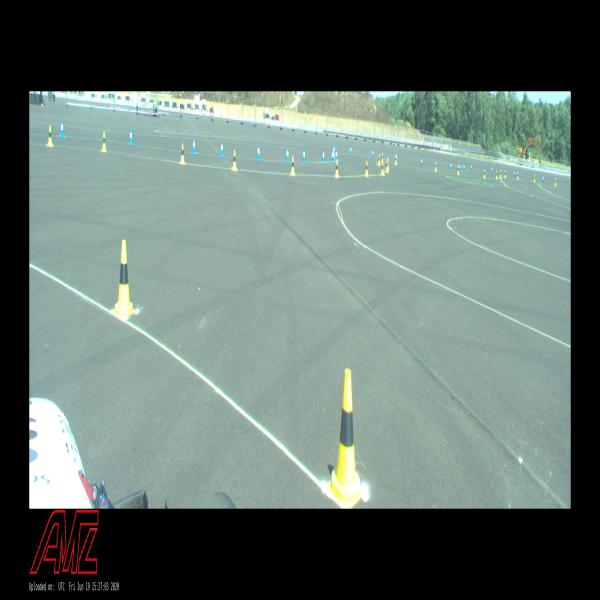blue_cone: (192, 136, 196, 154), (220, 140, 224, 157), (129, 128, 133, 145), (302, 147, 306, 163), (256, 144, 260, 160), (61, 120, 64, 137), (286, 146, 289, 162), (331, 149, 334, 163), (322, 149, 325, 163), (335, 149, 338, 161), (334, 144, 336, 159), (420, 158, 423, 166), (450, 160, 452, 170), (350, 144, 352, 154), (372, 149, 374, 159), (459, 162, 461, 171), (514, 170, 516, 178), (542, 174, 544, 182), (491, 166, 493, 173), (463, 163, 465, 170), (396, 152, 397, 163), (471, 164, 472, 171)
yellow_cone: (326, 369, 363, 508), (113, 240, 134, 318), (46, 125, 53, 146), (290, 156, 295, 176), (232, 150, 237, 170), (102, 132, 107, 151), (180, 144, 184, 163), (335, 159, 339, 177), (364, 160, 368, 177), (381, 162, 384, 175), (378, 154, 381, 164), (381, 152, 384, 162), (483, 169, 486, 179), (434, 162, 437, 172), (386, 158, 388, 172), (394, 156, 397, 165), (387, 157, 389, 170), (499, 170, 502, 178), (457, 165, 459, 175), (534, 174, 536, 183), (504, 170, 506, 178), (516, 172, 518, 179), (554, 178, 556, 185), (496, 170, 497, 179)
